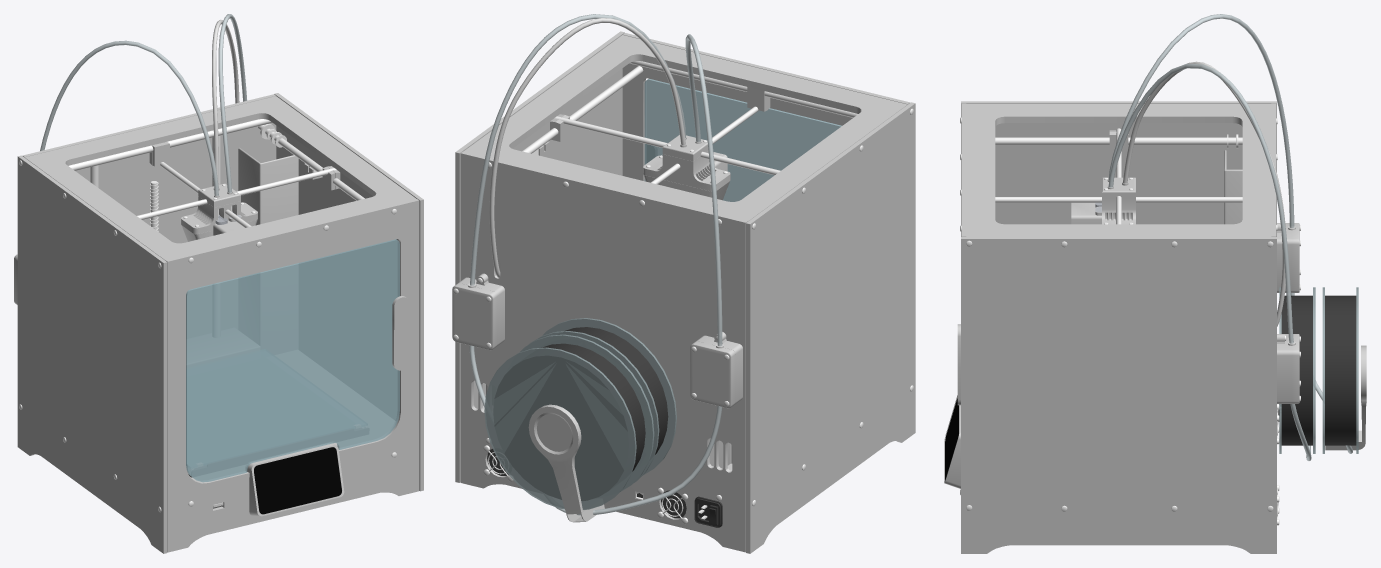
Rendered from Ultimaker S3 v3.fbx.
The picture shows the model from 3 angles, left to right: view 1: azimuth 30°, elevation 25°; view 2: azimuth 150°, elevation 25°; view 3: azimuth 270°, elevation 25°; orthographic projection. The views are drawn at different scales.
Parts seen in each view (by area): view 1: RightPanel, GlassPanel, FrontPanel, LeftPanel, TopBase, BackPanel, BackSupport, DisplayPanel, BottomBase, DoubleCylinder.001, Cube, Tube1.001 (+7 smaller); view 2: BackPanel, RightPanel, Circle.008, TopBase, GlassPanel, LeftPanel, Circle.010, FrontPanel, Circle.017, FeederR2, FeederL2, Print Head Cable (+11 smaller); view 3: LeftPanel, RightPanel, TopBase, Circle.008, Circle.010, Tube2, Tube1.001, DoubleCylinder.001, Print Head Cable, Cube.011, DisplayPanel, FeederL1 (+10 smaller).
Boxes of the visible parts, x1,y1,x2,y2 form: RightPanel: (17,155,167,553); GlassPanel: (186,239,410,482); FrontPanel: (165,199,419,552); LeftPanel: (274,93,423,491); TopBase: (25,96,416,260); BackPanel: (22,94,276,338); BackSupport: (238,147,298,354); DisplayPanel: (247,443,344,516); BottomBase: (190,350,395,481); DoubleCylinder.001: (69,119,364,200); Cube: (186,328,259,367); Tube1.001: (40,40,218,195); BackPanel: (460,151,747,552); RightPanel: (746,102,915,553); Circle.008: (484,334,654,509); TopBase: (464,35,907,221); GlassPanel: (644,78,841,201); LeftPanel: (455,31,624,482); Circle.010: (528,318,676,482); FrontPanel: (622,33,910,181); Circle.017: (528,404,604,522); FeederR2: (690,341,735,408); FeederL2: (452,283,497,350); Print Head Cable: (489,18,685,277); LeftPanel: (961,237,1276,553); RightPanel: (961,101,1276,236); TopBase: (966,104,1271,236); Circle.008: (1322,287,1358,453); Circle.010: (1279,287,1315,453); Tube2: (1108,63,1311,460); Tube1.001: (1108,14,1294,227); DoubleCylinder.001: (995,134,1242,148); Print Head Cable: (1123,61,1285,326); Cube.011: (995,197,1242,202); DisplayPanel: (944,395,960,488); FeederL1: (1277,334,1291,403).
Size of what is drawn, in the model's own units: 41.7 by 62.16 by 53.7.
